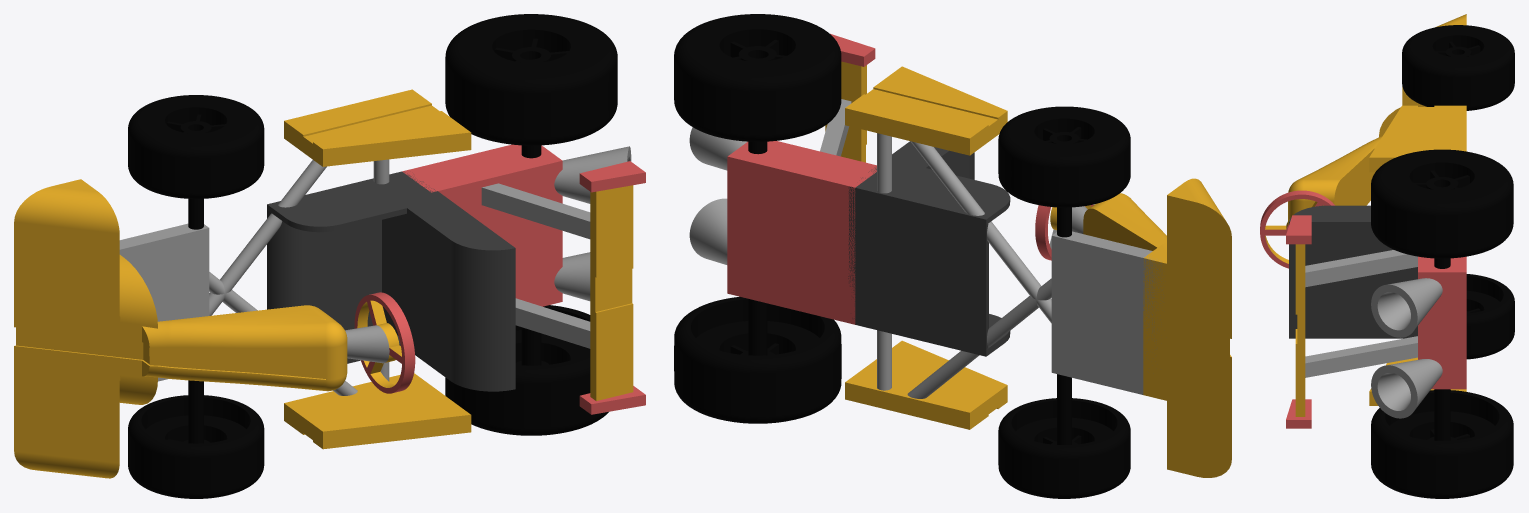
Rendered from Kart for game.fbx.
3 renders of one model, left to right at view 1: azimuth 30°, elevation 25°; view 2: azimuth 150°, elevation 25°; view 3: azimuth 270°, elevation 25°, orthographic. The views are drawn at different scales.
Parts seen in each view (by area): view 1: Body4, Body14, Body26, Body27, Body9, Body8, Body22, Body20, Body25, Body19, Body5, Body17 (+8 smaller); view 2: Body4, Body14, Body22, Body26, Body25, Body5, Body9, Body8, Body20, Body19, Body21, Body27 (+8 smaller); view 3: Body26, Body25, Body14, Body9, Body27, Body22, Body20, Body4, Body8, Body31, Body32, Body17 (+3 smaller).
Part boxes in pixels (x1,y1,x2,y2): Body4: (14,179,347,478); Body14: (267,171,515,391); Body26: (445,14,617,145); Body27: (481,183,633,400); Body9: (128,95,264,198); Body8: (128,395,264,498); Body22: (402,144,562,306); Body20: (284,89,471,166); Body25: (445,305,608,435); Body19: (284,373,471,449); Body5: (119,223,209,381); Body17: (345,292,415,393); Body4: (1083,178,1231,477); Body14: (848,141,1010,356); Body22: (727,141,876,324); Body26: (674,14,841,141); Body25: (674,296,841,423); Body5: (1051,231,1163,394); Body9: (998,106,1130,207); Body8: (998,398,1130,498); Body20: (845,66,1007,155); Body19: (845,340,1007,429); Body21: (910,141,1051,323); Body27: (820,61,866,162); Body26: (1371,149,1513,258); Body25: (1371,390,1513,498); Body14: (1289,205,1417,338); Body9: (1402,25,1514,110); Body27: (1295,244,1417,416); Body22: (1418,256,1466,389); Body20: (1369,105,1466,172); Body4: (1288,14,1466,220); Body8: (1466,274,1514,359); Body31: (1371,359,1442,418); Body32: (1371,278,1442,337); Body17: (1260,190,1334,268).
Bounding box in the file's own units: 174 × 101 × 79.
